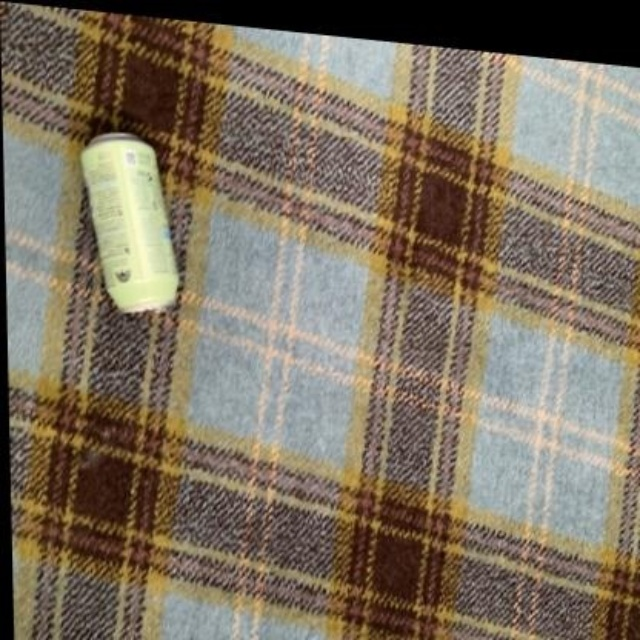trash: (82, 132, 177, 311)
